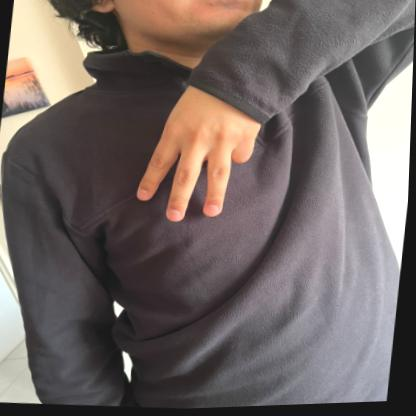M: (131, 54, 269, 232)
